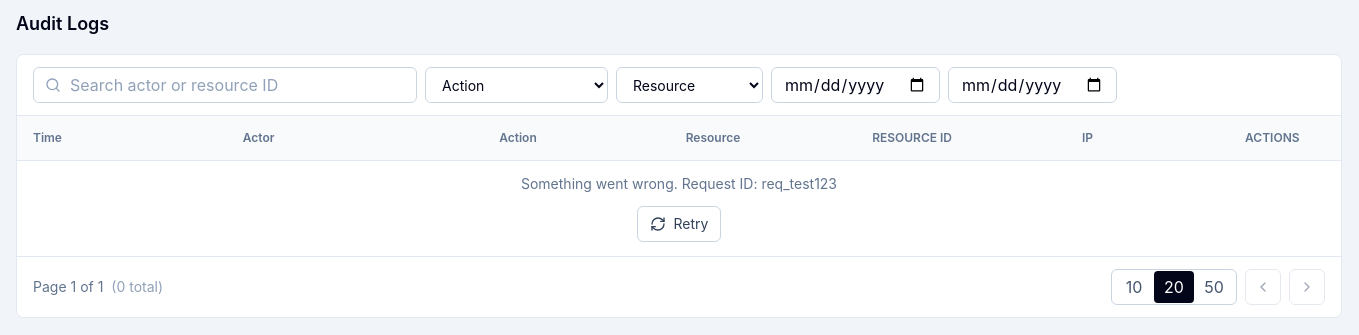
AuditLogsPage › renders an error state with retry
The image size is (1359, 335).
Expected: the text "Something went wrong. Request ID: req_test123" is shown, [521,174,837,194]
Step 1. Click the button "Retry" → (679, 224), box [636,206,721,242]
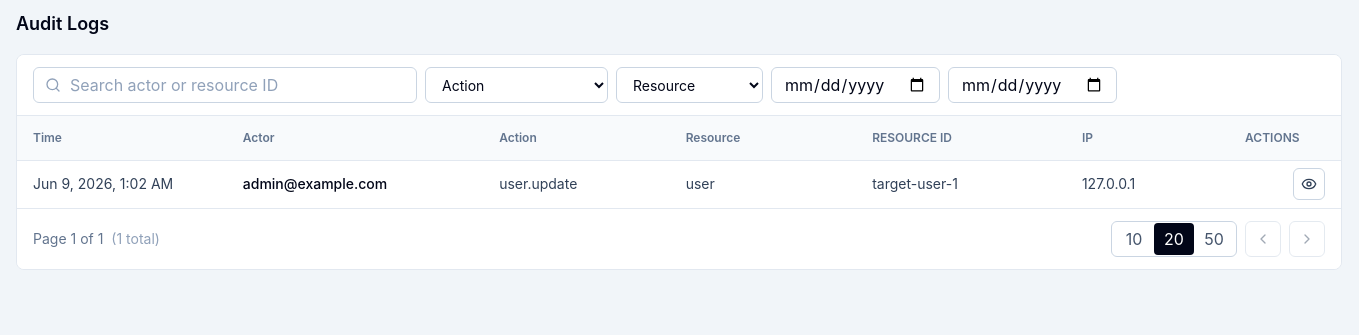
Expected: the text "admin@example.com" is shown, [243,175,387,192]
